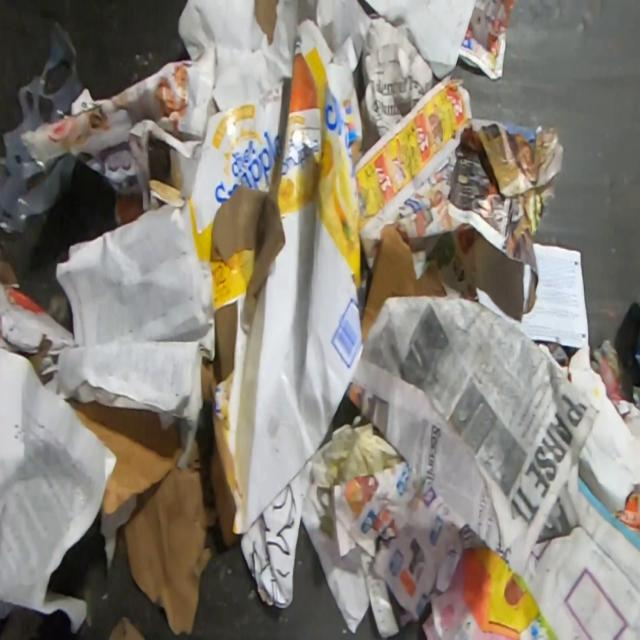cardboard: (148, 16, 365, 533), (61, 396, 186, 540), (362, 220, 449, 352), (240, 462, 313, 611), (0, 283, 81, 375), (208, 432, 240, 550), (106, 616, 150, 639)
rigid_plastic: (0, 17, 96, 236)
